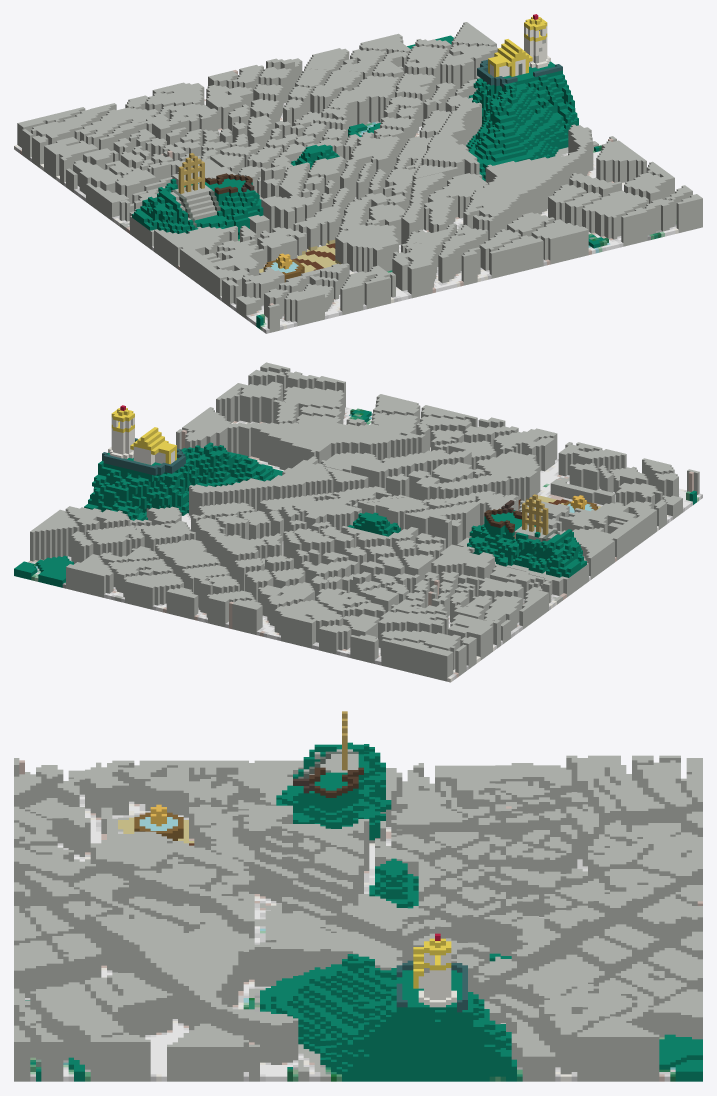
File: 200610 magicvoxel1-14.obj
3 renders of one model, top to bottom at view 1: azimuth 30°, elevation 25°; view 2: azimuth 150°, elevation 25°; view 3: azimuth 270°, elevation 25°, orthographic. The views are drawn at different scales.
Bounding box in the file's own units: 12.6 × 2.9 × 12.6.
1 material, 1 textured.
